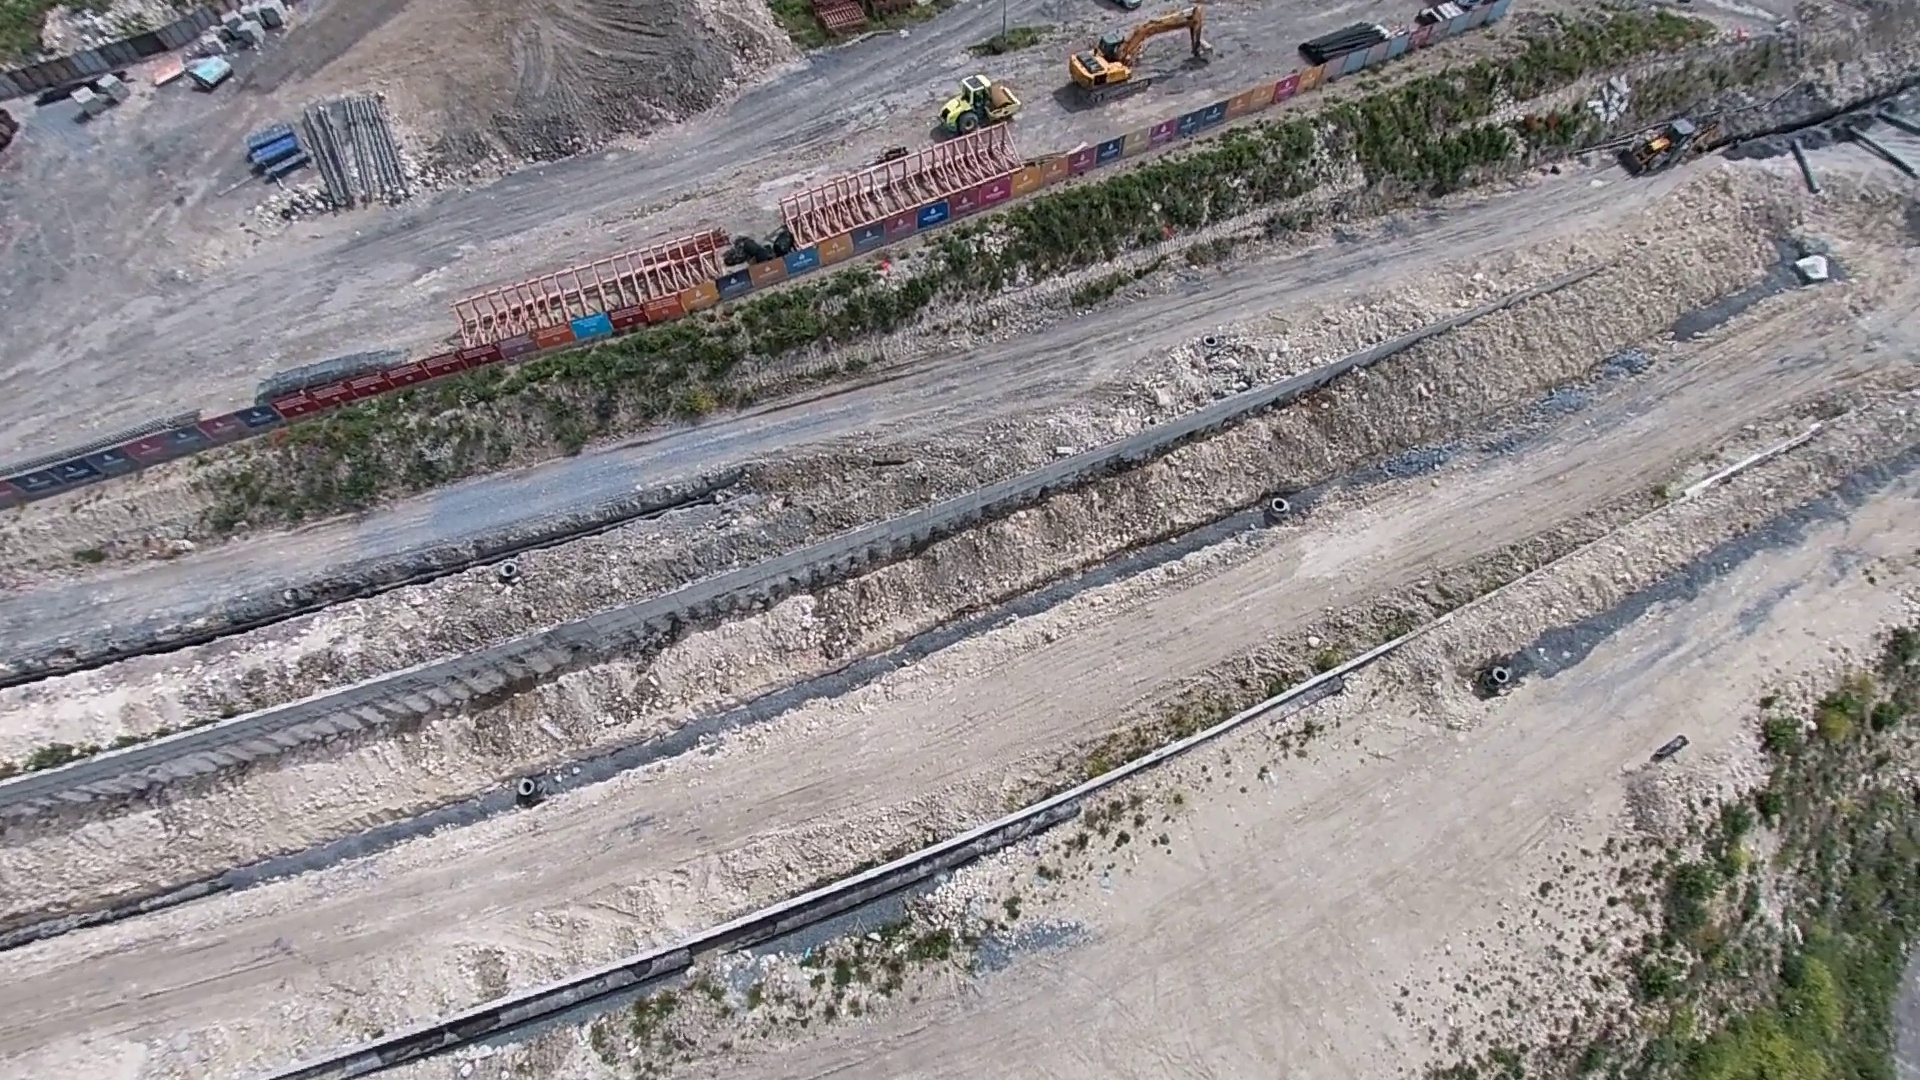arac: (1065, 3, 1218, 108), (1611, 109, 1722, 185), (938, 55, 1036, 136)
